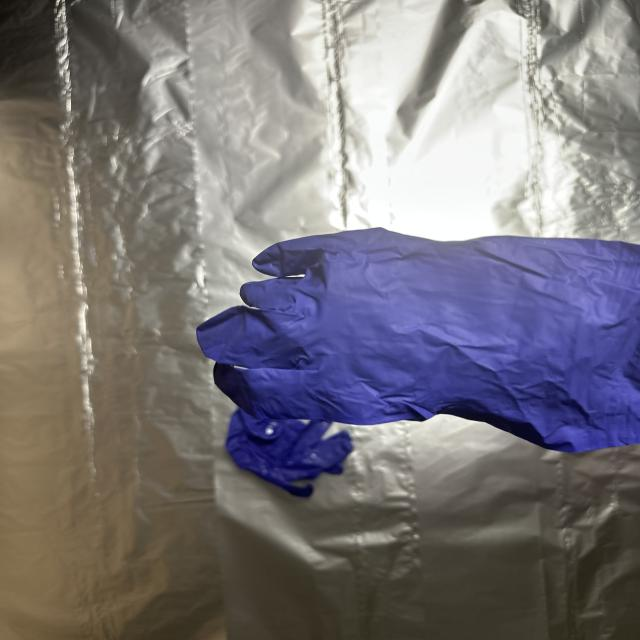glove_not_fitted: (189, 209, 640, 482)
